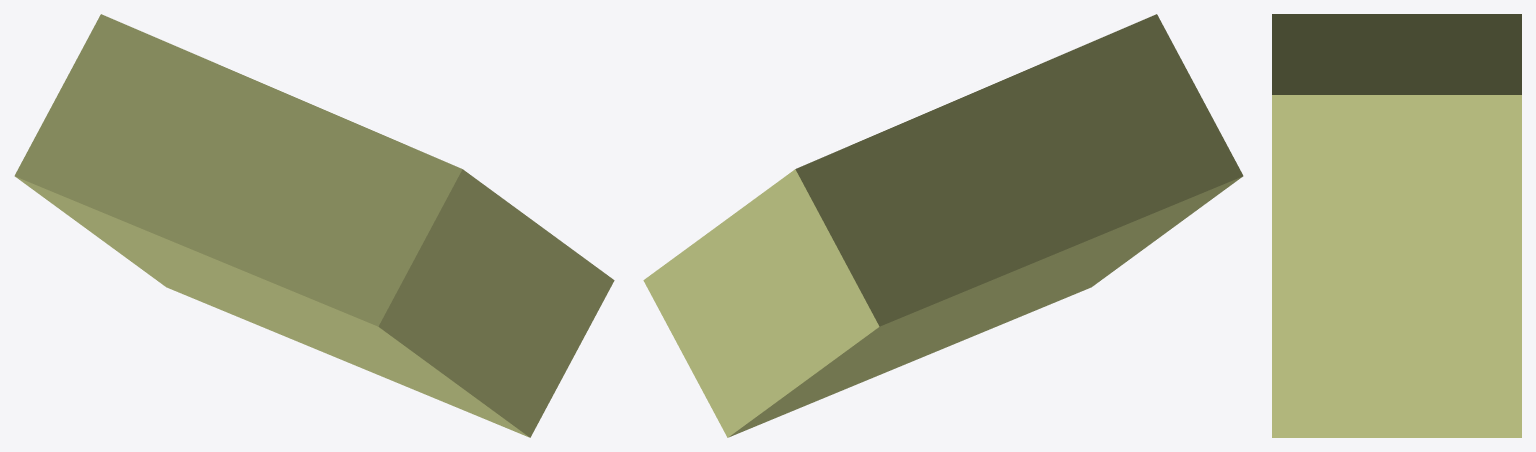
3 views of the same model, side by side, from view 1: azimuth 30°, elevation 25°; view 2: azimuth 150°, elevation 25°; view 3: azimuth 270°, elevation 25° (orthographic). The views are drawn at different scales.
Parts seen in each view (by area): view 1: 0_1_0_0_0_1_0_3_1_1; view 2: 0_1_0_0_0_1_0_3_1_1; view 3: 0_1_0_0_0_1_0_3_1_1.
Boxes of the visible parts, x1=… form: 0_1_0_0_0_1_0_3_1_1: x1=14, y1=14, x2=614, y2=437; 0_1_0_0_0_1_0_3_1_1: x1=643, y1=14, x2=1243, y2=437; 0_1_0_0_0_1_0_3_1_1: x1=1272, y1=14, x2=1521, y2=437.
Bounding box in the file's own units: 10.22 × 8.29 × 6.
